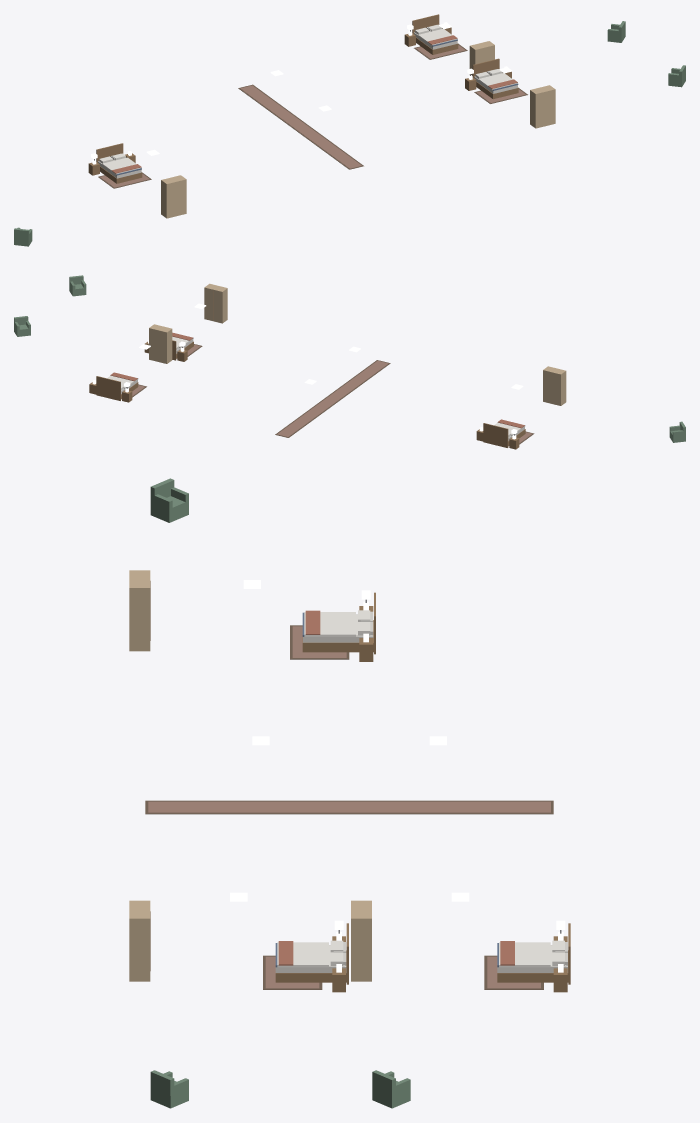
The model's file is fine-s5.glb.
The picture shows the model from 3 angles, top to bottom: view 1: azimuth 30°, elevation 25°; view 2: azimuth 150°, elevation 25°; view 3: azimuth 270°, elevation 25°; orthographic projection. The views are drawn at different scales.
Visible parts, largest first — view 1: soft-s5, dresser.012, dresser.014, bed-frame.013, bed-frame.012, bed-frame.014, dresser.013; view 2: soft-s5, dresser.012, dresser.013, dresser.014, bed-frame.012, bed-frame.013, lounge-chair.014, lounge-chair.013, lounge-chair.012; view 3: soft-s5, dresser.012, dresser.014, dresser.013, lounge-chair.012, bed-frame.014, bed-frame.012, bed-frame.013, lounge-chair.014, lounge-chair.013.
Boxes of the visible parts, left/top/right/bottom form: soft-s5: left=91, top=24, right=527, bottom=188; dresser.012: left=161, top=175, right=186, bottom=218; dresser.014: left=530, top=85, right=555, bottom=128; bed-frame.013: left=412, top=14, right=458, bottom=54; bed-frame.012: left=96, top=143, right=142, bottom=183; bed-frame.014: left=472, top=58, right=518, bottom=99; dresser.013: left=469, top=41, right=494, bottom=75; soft-s5: left=107, top=332, right=534, bottom=444; dresser.012: left=543, top=366, right=566, bottom=405; dresser.013: left=149, top=324, right=172, bottom=363; dresser.014: left=204, top=283, right=227, bottom=323; bed-frame.012: left=483, top=423, right=525, bottom=447; bed-frame.013: left=96, top=376, right=138, bottom=400; lounge-chair.014: left=69, top=275, right=86, bottom=296; lounge-chair.013: left=14, top=316, right=30, bottom=336; lounge-chair.012: left=669, top=421, right=685, bottom=442; soft-s5: left=145, top=590, right=566, bottom=989; dresser.012: left=129, top=570, right=150, bottom=651; dresser.014: left=129, top=900, right=150, bottom=981; dresser.013: left=351, top=900, right=371, bottom=981; lounge-chair.012: left=150, top=478, right=188, bottom=522; bed-frame.014: left=275, top=923, right=348, bottom=984; bed-frame.012: left=302, top=592, right=375, bottom=654; bed-frame.013: left=497, top=923, right=570, bottom=984; lounge-chair.014: left=150, top=1070, right=188, bottom=1108; lounge-chair.013: left=372, top=1070, right=410, bottom=1108.
Size of the model in its own units: 40.78 by 2.14 by 12.63.
